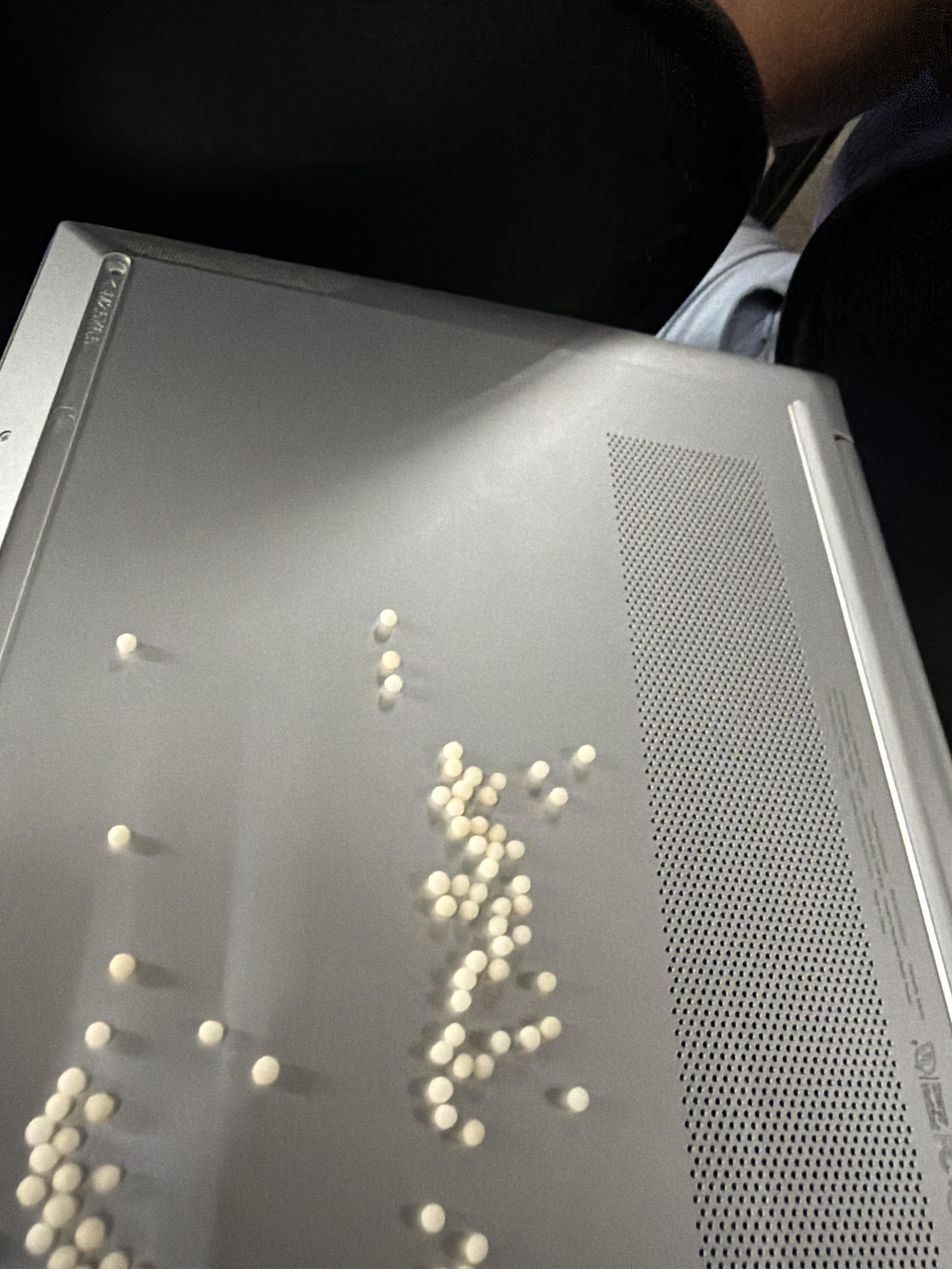pill: (43, 1193, 78, 1229), (74, 1216, 105, 1252), (16, 1175, 48, 1208), (24, 1222, 55, 1256), (83, 1092, 117, 1123), (24, 1115, 56, 1147), (44, 1091, 75, 1124), (52, 1162, 84, 1193), (29, 1143, 60, 1175), (51, 1125, 83, 1156), (90, 1164, 122, 1194), (460, 1232, 489, 1265), (57, 1067, 88, 1097), (418, 1203, 446, 1234), (252, 1055, 280, 1086), (109, 953, 137, 982), (47, 1244, 79, 1269), (197, 1019, 225, 1047), (85, 1021, 113, 1049), (431, 1103, 458, 1131), (427, 1076, 453, 1105), (563, 1086, 590, 1113), (459, 1120, 485, 1147), (516, 1024, 541, 1052), (376, 608, 398, 638), (428, 1040, 454, 1065), (107, 824, 131, 851), (99, 1249, 131, 1269), (527, 760, 549, 789), (452, 966, 477, 991), (451, 1053, 474, 1080), (486, 957, 510, 982), (448, 814, 471, 840), (444, 795, 465, 823), (433, 894, 457, 918), (539, 1015, 562, 1040), (443, 1022, 466, 1047), (428, 870, 450, 896), (379, 650, 401, 676), (465, 949, 488, 973), (489, 1030, 511, 1055), (574, 744, 596, 769), (451, 778, 473, 803), (473, 1053, 494, 1079), (534, 971, 557, 994), (490, 935, 513, 958), (450, 989, 472, 1013), (116, 633, 138, 656), (546, 787, 568, 809), (466, 834, 487, 857), (476, 859, 499, 880), (430, 784, 451, 807), (441, 759, 462, 782), (382, 674, 403, 697), (463, 765, 483, 789), (451, 873, 470, 898), (511, 924, 532, 946), (509, 874, 531, 895), (491, 896, 512, 917), (477, 786, 498, 807), (513, 894, 533, 916), (487, 915, 507, 937), (459, 899, 479, 921), (469, 881, 488, 903), (441, 741, 463, 760), (487, 772, 507, 792), (506, 839, 525, 860), (486, 823, 507, 841), (471, 815, 489, 835), (486, 843, 504, 862)
